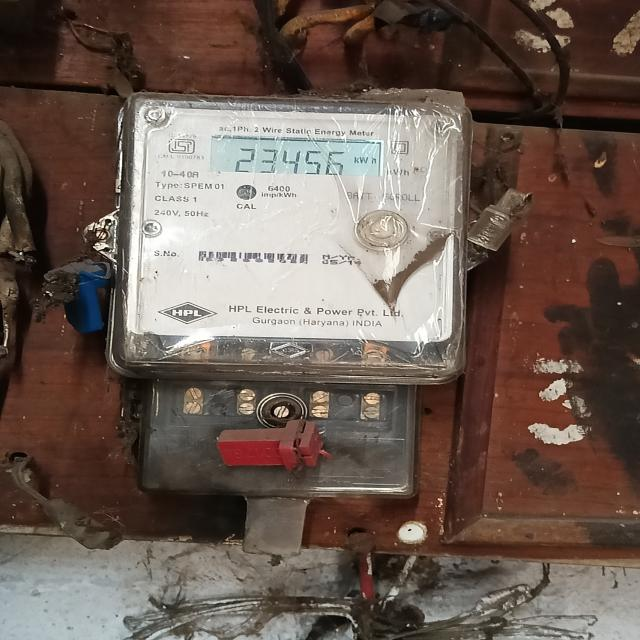display: (204, 132, 386, 187)
